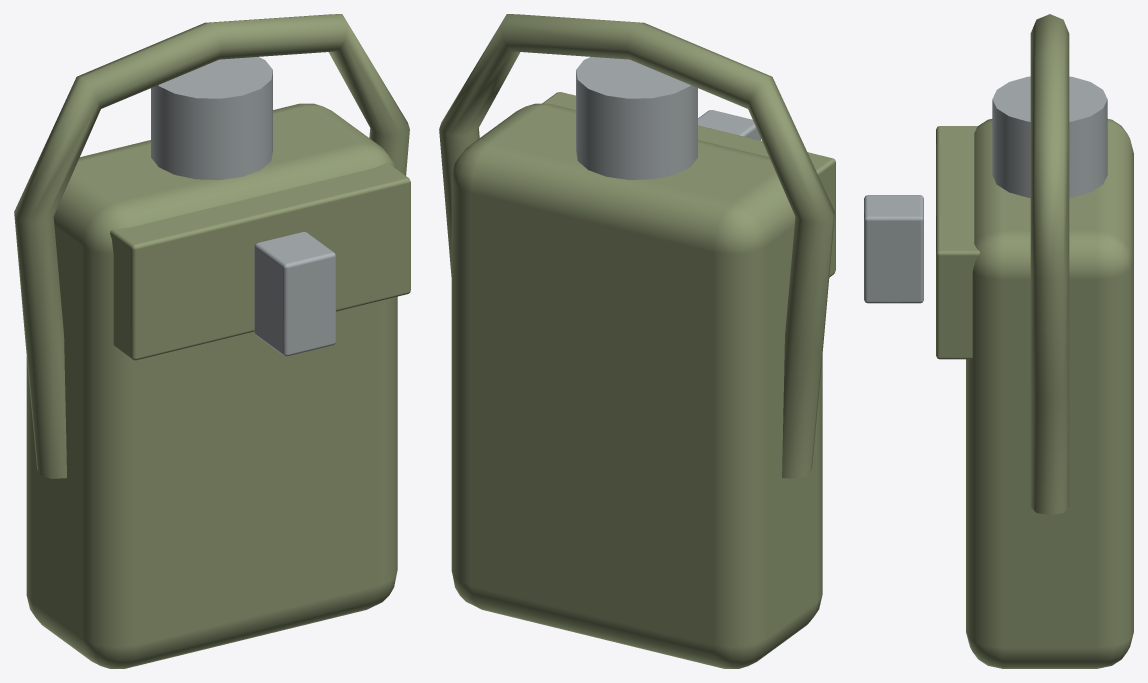
File: water-collection-and-purification-field-canteen-559210b5__20209.glb
3 views of the same model, side by side, from view 1: azimuth 30°, elevation 25°; view 2: azimuth 150°, elevation 25°; view 3: azimuth 270°, elevation 25° (orthographic). The views are drawn at different scales.
Visible parts, largest first — view 1: field-canteen, flap/canvas; view 2: field-canteen, flap/canvas; view 3: field-canteen, flap/canvas.
Part boxes in pixels (x1,y1,x2,y2): field-canteen: (14, 14, 409, 668); flap/canvas: (110, 162, 410, 360); field-canteen: (439, 14, 834, 668); flap/canvas: (542, 92, 835, 277); field-canteen: (864, 14, 1133, 668); flap/canvas: (936, 126, 979, 359).
Size of the model in its own units: 0.1767 by 0.2567 by 0.1125.
